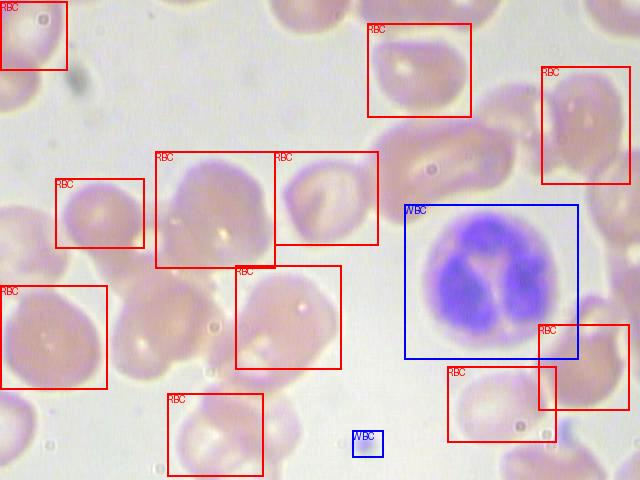RBC: (155, 151, 275, 268), (0, 285, 107, 389), (235, 265, 341, 369), (541, 66, 630, 184), (274, 151, 378, 245), (367, 23, 471, 117), (447, 366, 556, 442), (167, 393, 263, 476), (538, 324, 629, 410), (55, 178, 144, 248), (0, 1, 67, 70)
WBC: (404, 204, 578, 359), (352, 430, 383, 457)
